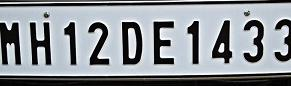1: (61, 20, 78, 65), (185, 19, 201, 65)
2: (86, 20, 110, 65)
3: (241, 18, 266, 63), (271, 17, 290, 62)
4: (210, 19, 233, 64)
D: (120, 20, 142, 65)
E: (151, 19, 175, 65)
H: (28, 19, 51, 66)
M: (0, 21, 22, 65)
